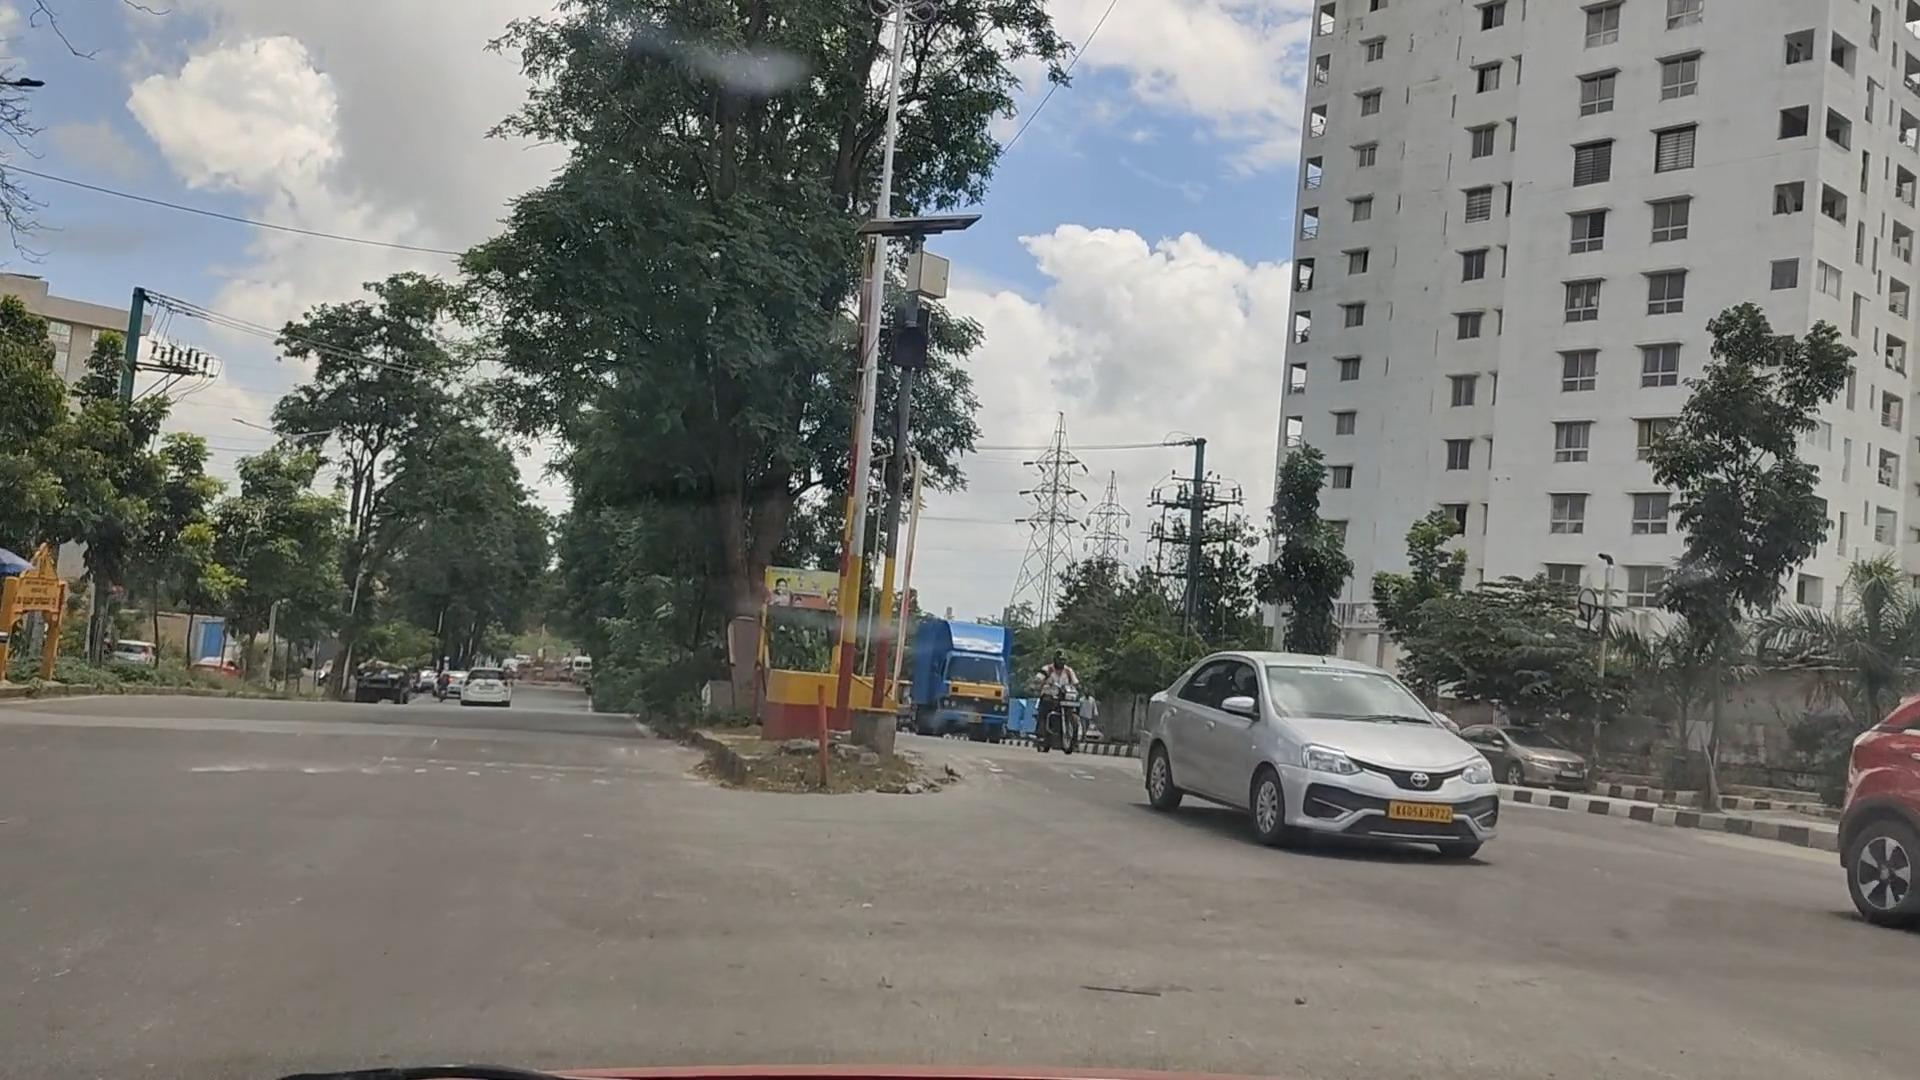LMV: (1156, 638, 1497, 876)
